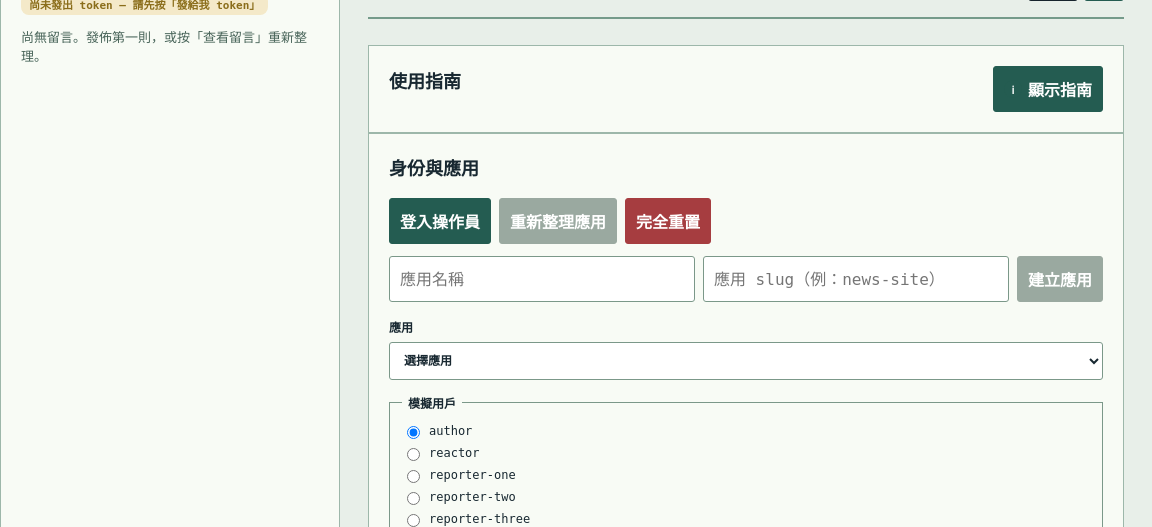
it: Lab comment board interactions › cancels reply mode without posting
Click the button "登入操作員".
click(440, 221)  # box [389,198,491,244]
(page scrolled)
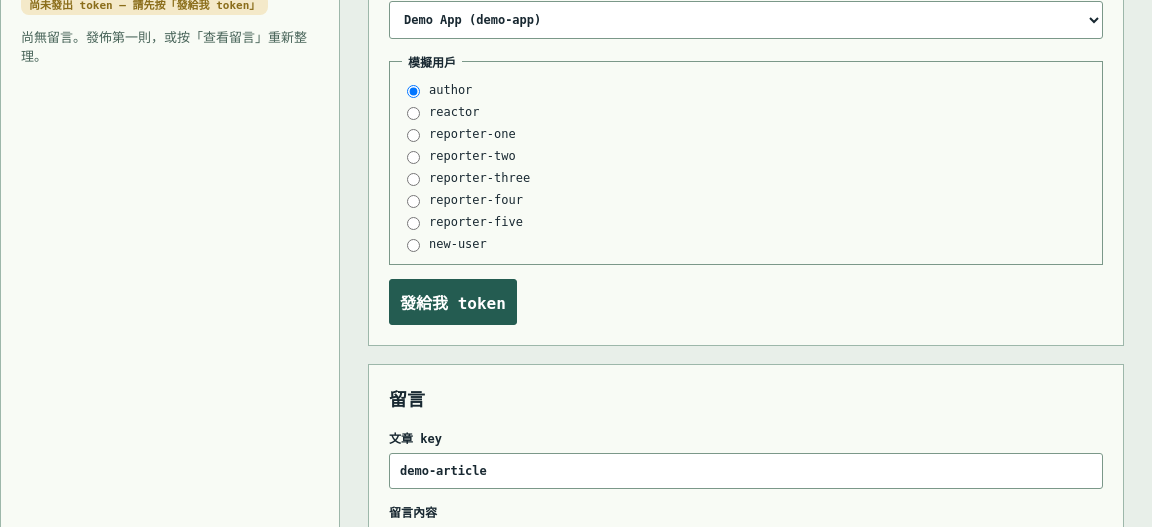
Click the button "發給我 token".
click(453, 302)  # box [389,279,517,325]
(page scrolled)
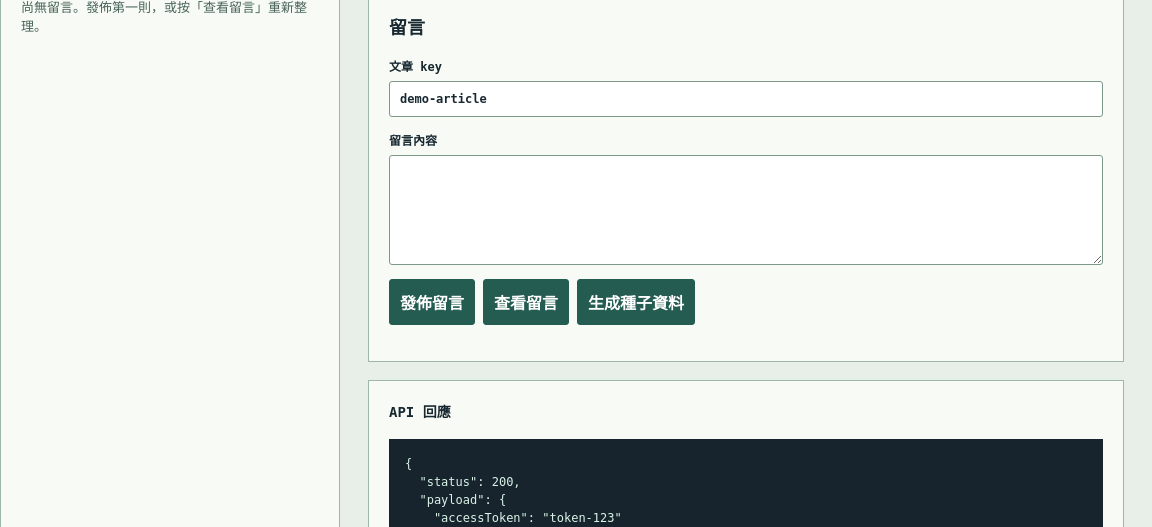
Click the button "查看留言".
click(526, 302)  # box [483,279,569,325]
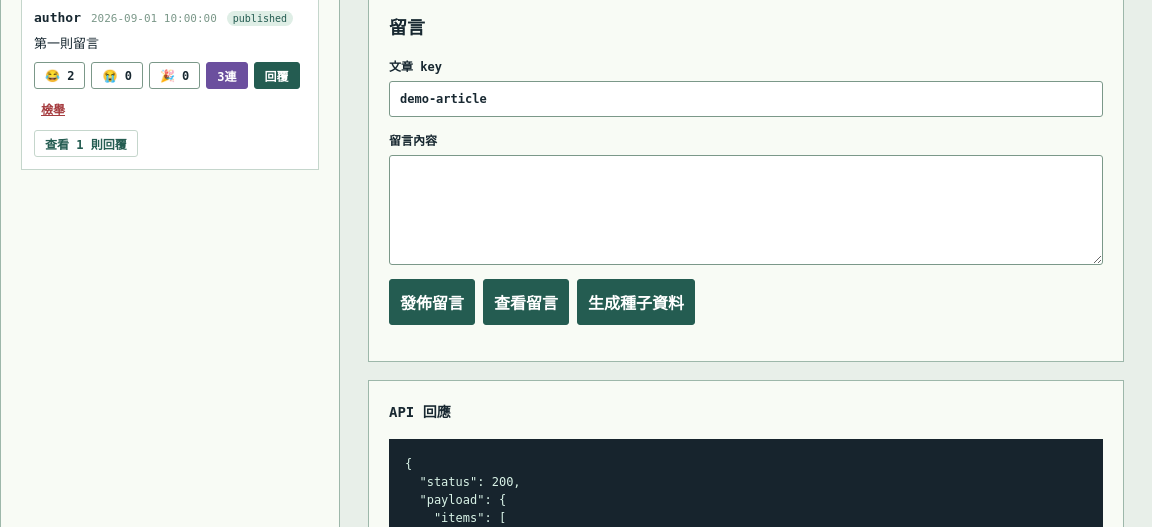
Click the button "回覆".
click(276, 76)  # box [254,62,300,89]
(page scrolled)
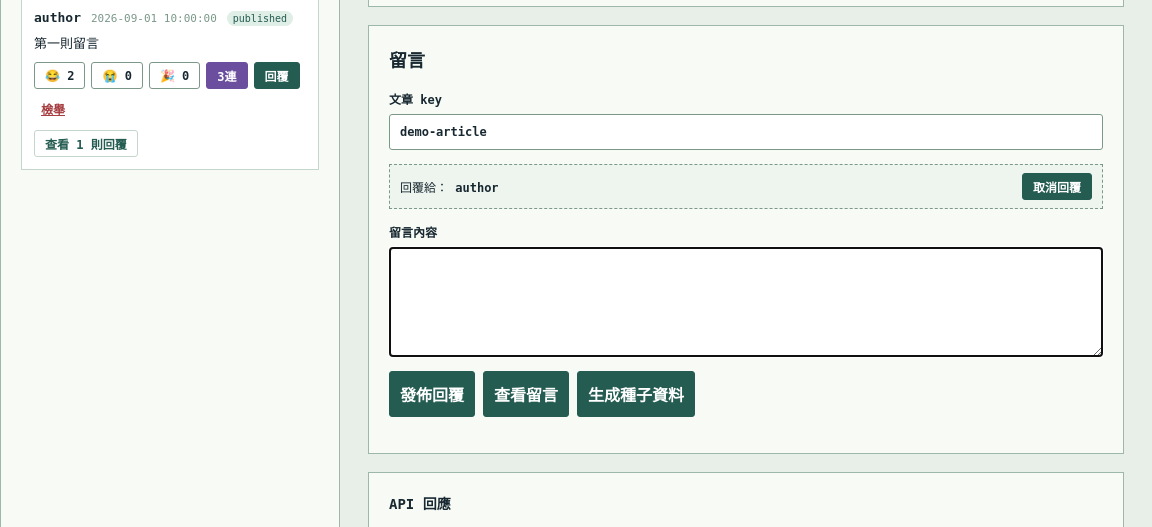
Now the element with id "lab" shows "回覆給：", box [400,181,448,195]
Click the button "取消回覆".
click(1057, 186)  # box [1022,173,1092,200]
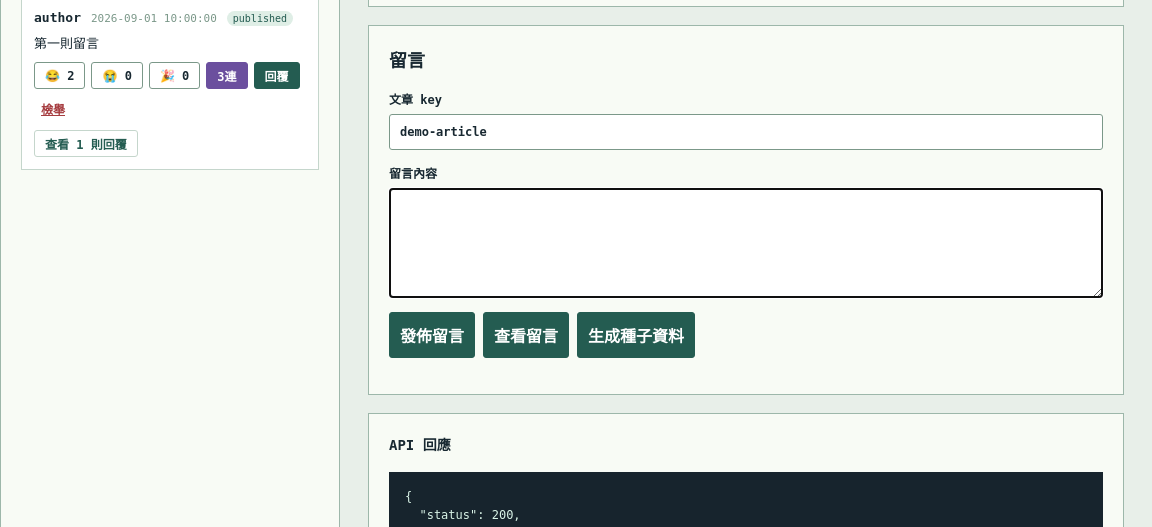
Now the element with id "lab" no longer shows "回覆給："
